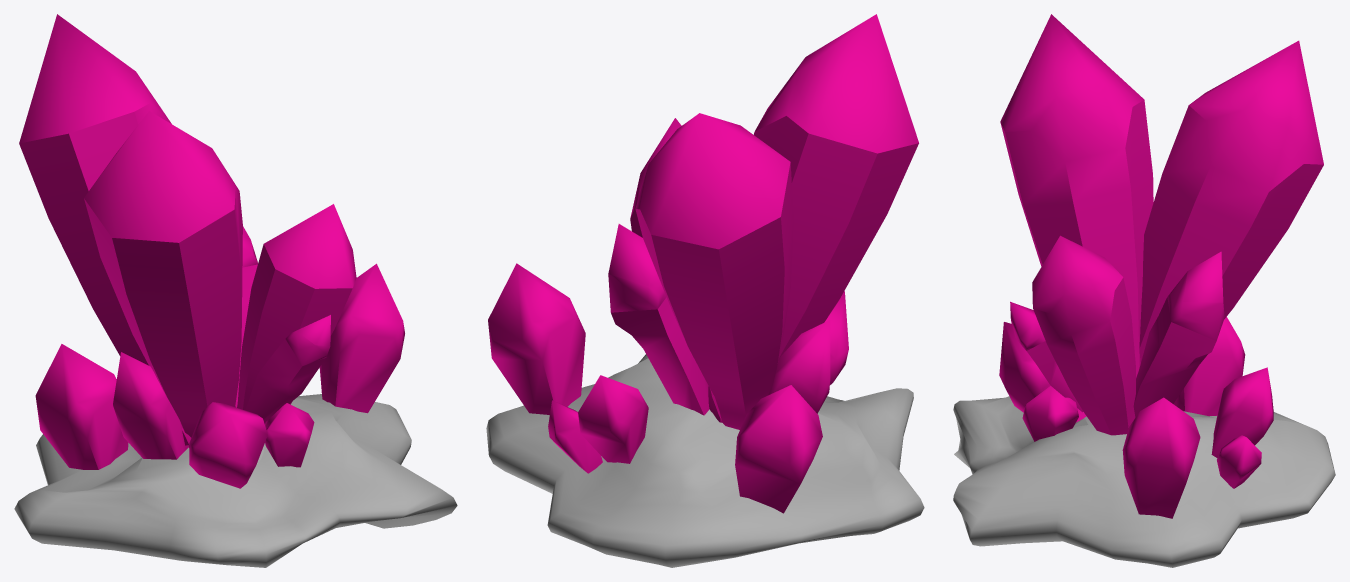
Rendered from CrystalCluster.fbx.
3 renders of one model, left to right at view 1: azimuth 30°, elevation 25°; view 2: azimuth 150°, elevation 25°; view 3: azimuth 270°, elevation 25°, orthographic. The views are drawn at different scales.
Parts seen in each view (by area): view 1: pCylinder22; view 2: pCylinder22; view 3: pCylinder22.
Part boxes in pixels (x1,y1,x2,y2): pCylinder22: (14, 14, 457, 567); pCylinder22: (486, 14, 924, 567); pCylinder22: (953, 14, 1335, 567).
Bounding box in the file's own units: 15.09 × 16.85 × 13.41.
